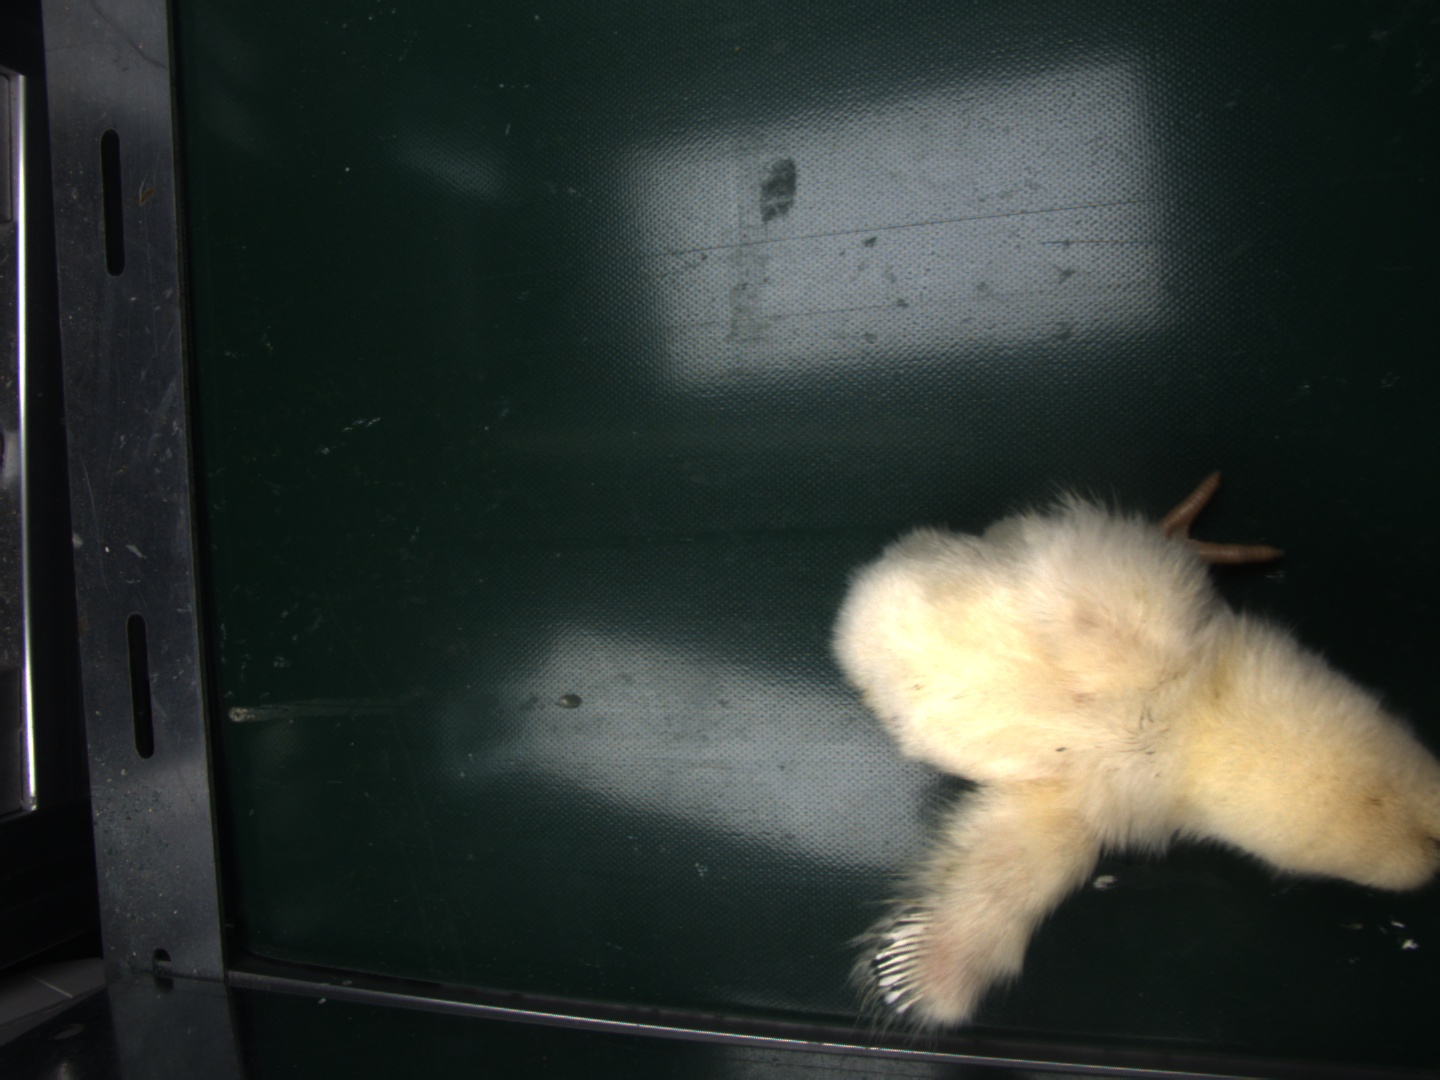male: (878, 908, 938, 1009)
